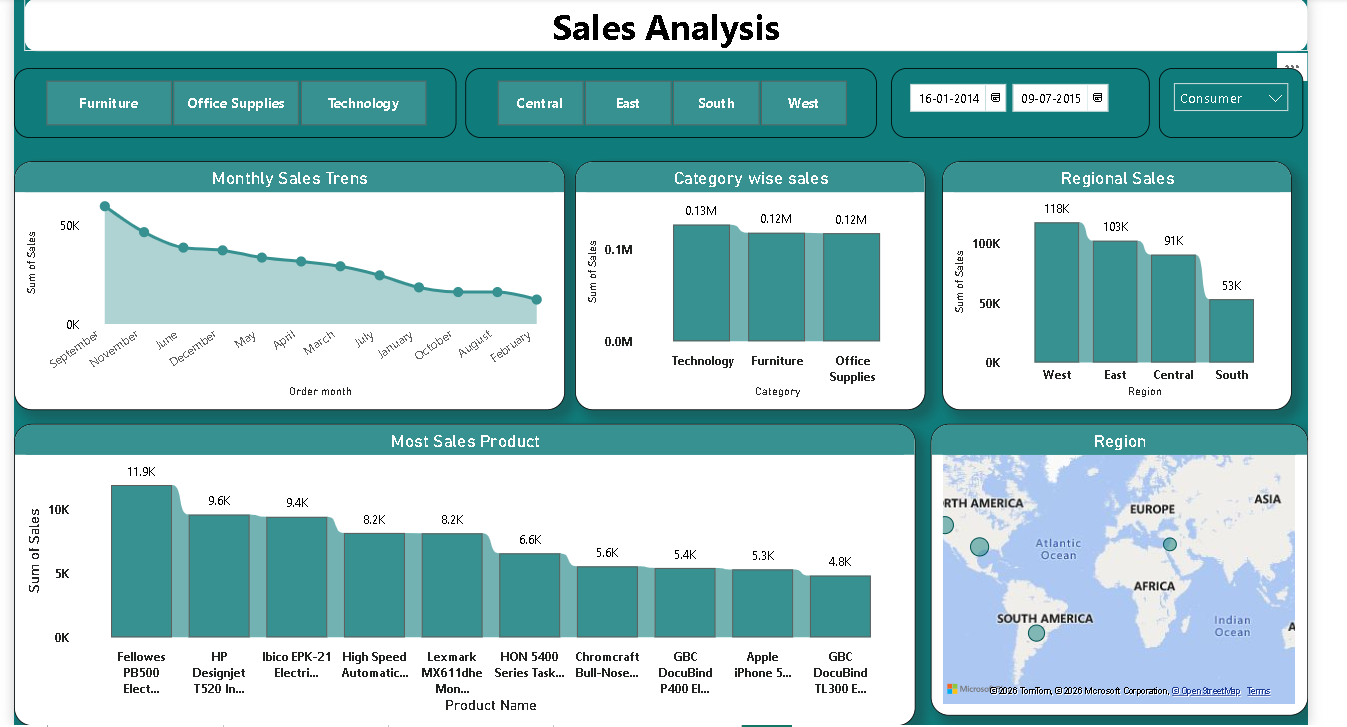

This screenshot's page, from the dashboard's own definition file:
{"tool":"powerbi","page":{"name":"Sales Dashboard","canvas":[1280,720],"ordinal":1},"visuals":[{"type":"shape","box":[10.1,0,1270,53],"z":0},{"type":"lineChart","title":"Monthly Sales Trens","fields":{"Category":["final_data.Order month"],"Y":["Sum(final_data.Sales)"]},"box":[0,161.4,544.8,245.9],"z":1000},{"type":"columnChart","title":"Category wise sales","fields":{"Category":["final_data.Category"],"Y":["Sum(final_data.Sales)"]},"box":[554.9,161.4,346.8,245.9],"z":2000},{"type":"columnChart","title":"Regional Sales","fields":{"Category":["final_data.Region"],"Y":["Sum(final_data.Sales)"]},"box":[918.1,161.4,345.6,245.9],"z":3000},{"type":"map","title":"Region","fields":{"Size":["Sum(final_data.Sales)"],"Category":["final_data.Region"]},"box":[906.8,421.2,373.3,288.8],"z":4000},{"type":"columnChart","title":"Most Sales Product","fields":{"Category":["final_data.Product Name"],"Y":["Sum(final_data.Sales)"]},"box":[0,421.2,891.7,298.9],"z":5000},{"type":"slicer","fields":{"Values":["final_data.Category"]},"box":[0,69.4,437.6,69.4],"z":6000},{"type":"slicer","fields":{"Values":["final_data.Region"]},"box":[446.5,69.4,407.4,69.4],"z":7000},{"type":"slicer","fields":{"Values":["final_data.Order Date"]},"box":[867.7,69.4,256,69.4],"z":8000},{"type":"slicer","fields":{"Values":["final_data.Segment"]},"box":[1132.5,69.4,142.5,69.4],"z":9000}]}

Visuals, with their boxes on the page's 1280x720 design canvas (x1, y1, x2, y2). These are canvas units, not pixel positions in the 1347x727 screenshot, which may show the page scaled, cropped or inside an application window:
shape: [10,0,1280,53]
"Monthly Sales Trens" lineChart: [0,161,545,407]
"Category wise sales" columnChart: [555,161,902,407]
"Regional Sales" columnChart: [918,161,1264,407]
"Region" map: [907,421,1280,710]
"Most Sales Product" columnChart: [0,421,892,720]
slicer - final_data.Category: [0,69,438,139]
slicer - final_data.Region: [446,69,854,139]
slicer - final_data.Order Date: [868,69,1124,139]
slicer - final_data.Segment: [1132,69,1275,139]
